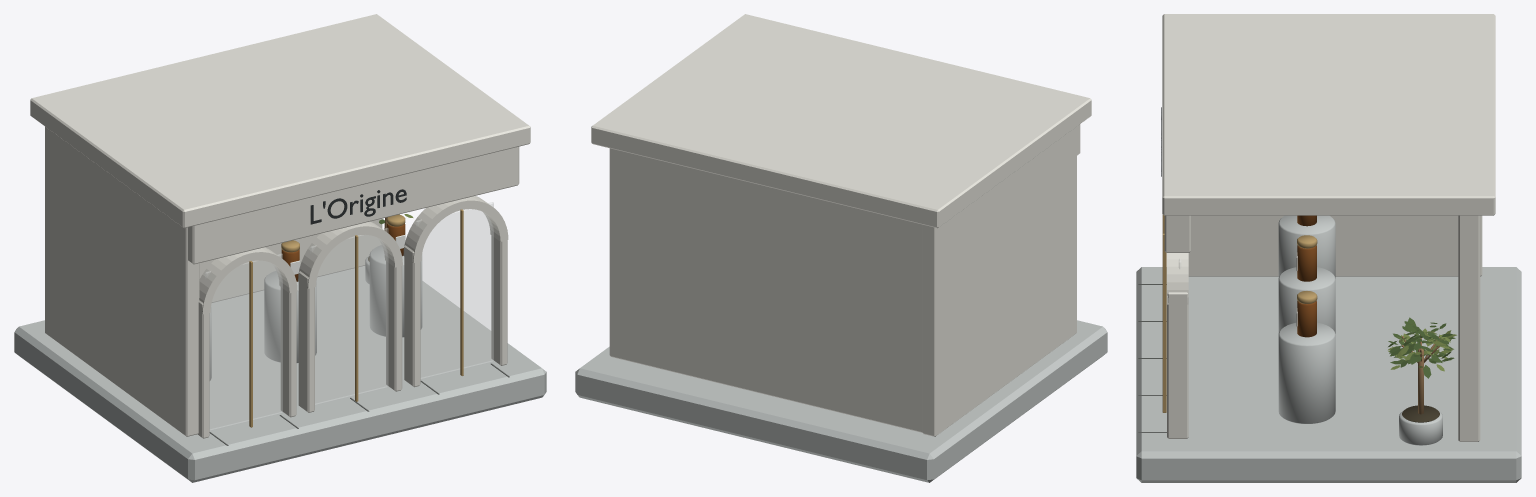
The model's file is lorigine-interactive-v2.glb.
The picture shows the model from 3 angles, left to right: view 1: azimuth 30°, elevation 25°; view 2: azimuth 150°, elevation 25°; view 3: azimuth 270°, elevation 25°; orthographic projection. The views are drawn at different scales.
Parts seen in each view (by area): view 1: structure, roof, facade, feature; view 2: structure, roof; view 3: structure, roof, feature, facade.
Boxes of the visible parts, bbox=[...] form: structure: bbox=[14, 126, 546, 482]; roof: bbox=[30, 14, 530, 228]; facade: bbox=[197, 196, 508, 438]; feature: bbox=[209, 214, 422, 380]; structure: bbox=[575, 124, 1107, 482]; roof: bbox=[591, 14, 1091, 228]; structure: bbox=[1136, 107, 1521, 482]; roof: bbox=[1162, 14, 1495, 215]; feature: bbox=[1278, 215, 1335, 423]; facade: bbox=[1162, 214, 1188, 438].
Bounding box in the file's own units: 2.04 × 1.44 × 1.76.
